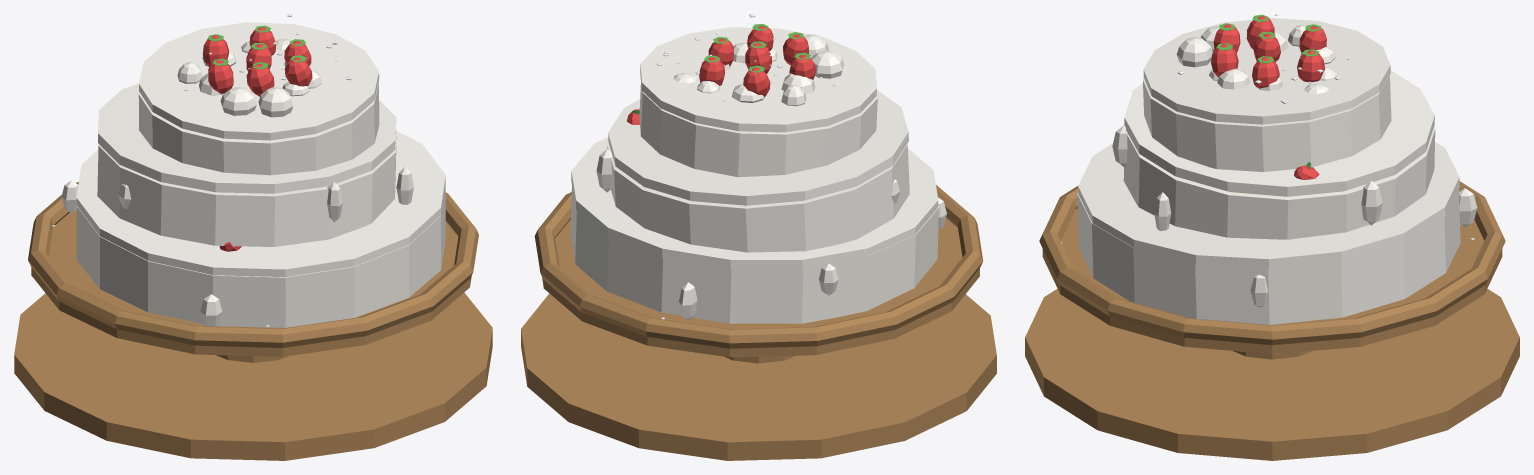
File: gen_1772903258295.glb
3 views of the same model, side by side, from view 1: azimuth 30°, elevation 25°; view 2: azimuth 150°, elevation 25°; view 3: azimuth 270°, elevation 25° (orthographic). The views are drawn at different scales.
Visible parts, largest first — view 1: StandBase, SideFrost1, FrostingTop, SideFrost2, FrostingLayer1, StandRim, FrostingLayer2, SideFrost3, StandPlate, FrostSwirl_7, FrostSwirl_6, Strawberry_4 (+6 smaller); view 2: StandBase, SideFrost1, SideFrost2, FrostingTop, StandRim, FrostingLayer2, FrostingLayer1, SideFrost3, StandPlate, FrostSwirl_6, Strawberry_3, Strawberry_0 (+6 smaller); view 3: StandBase, SideFrost1, FrostingLayer1, FrostingTop, SideFrost2, StandRim, SideFrost3, FrostingLayer2, StandPlate, FrostSwirl_7, FrostDrip_1, Strawberry_2 (+8 smaller).
Boxes of the visible parts, x1=… form: StandBase: x1=14, y1=292, x2=492, y2=460; SideFrost1: x1=76, y1=185, x2=445, y2=327; FrostingTop: x1=139, y1=22, x2=379, y2=140; SideFrost2: x1=97, y1=129, x2=396, y2=246; FrostingLayer1: x1=76, y1=131, x2=445, y2=277; StandRim: x1=28, y1=182, x2=478, y2=347; FrostingLayer2: x1=98, y1=83, x2=396, y2=193; SideFrost3: x1=138, y1=82, x2=379, y2=175; StandPlate: x1=31, y1=209, x2=471, y2=356; FrostSwirl_7: x1=258, y1=87, x2=292, y2=117; FrostSwirl_6: x1=220, y1=87, x2=256, y2=115; Strawberry_4: x1=208, y1=60, x2=233, y2=93; StandBase: x1=521, y1=293, x2=996, y2=460; SideFrost1: x1=570, y1=186, x2=938, y2=323; SideFrost2: x1=607, y1=143, x2=909, y2=252; FrostingTop: x1=640, y1=27, x2=876, y2=132; StandRim: x1=534, y1=185, x2=983, y2=348; FrostingLayer2: x1=608, y1=90, x2=908, y2=205; FrostingLayer1: x1=571, y1=137, x2=938, y2=269; SideFrost3: x1=639, y1=81, x2=877, y2=177; StandPlate: x1=542, y1=218, x2=979, y2=357; FrostSwirl_6: x1=811, y1=50, x2=844, y2=78; Strawberry_3: x1=743, y1=67, x2=770, y2=97; Strawberry_0: x1=745, y1=43, x2=771, y2=74; StandBase: x1=1025, y1=289, x2=1519, y2=460; SideFrost1: x1=1077, y1=189, x2=1460, y2=324; FrostingLayer1: x1=1078, y1=142, x2=1459, y2=268; FrostingTop: x1=1143, y1=18, x2=1390, y2=124; SideFrost2: x1=1123, y1=127, x2=1435, y2=239; StandRim: x1=1039, y1=181, x2=1505, y2=345; SideFrost3: x1=1143, y1=75, x2=1391, y2=171; FrostingLayer2: x1=1124, y1=70, x2=1434, y2=196; StandPlate: x1=1042, y1=208, x2=1502, y2=354; FrostSwirl_7: x1=1176, y1=37, x2=1212, y2=67; FrostDrip_1: x1=1361, y1=181, x2=1382, y2=225; Strawberry_2: x1=1297, y1=50, x2=1324, y2=82.
Bounding box in the file's own units: 1.4 × 1.01 × 1.4.
